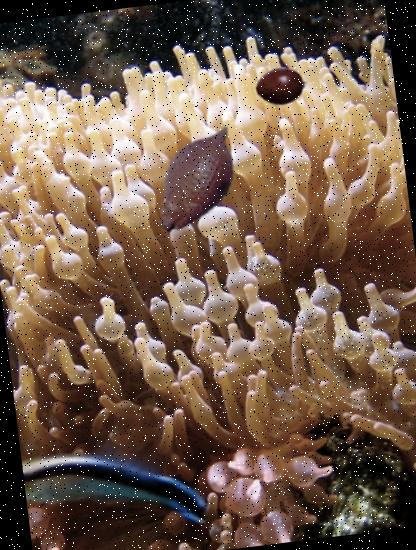Salak: (132, 112, 266, 246)
Tamarillo: (254, 58, 310, 114)
